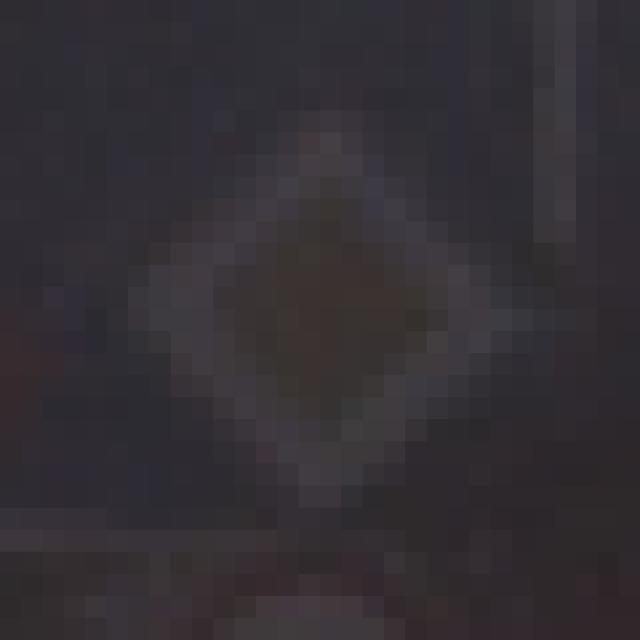Main Road: (108, 111, 534, 531)
